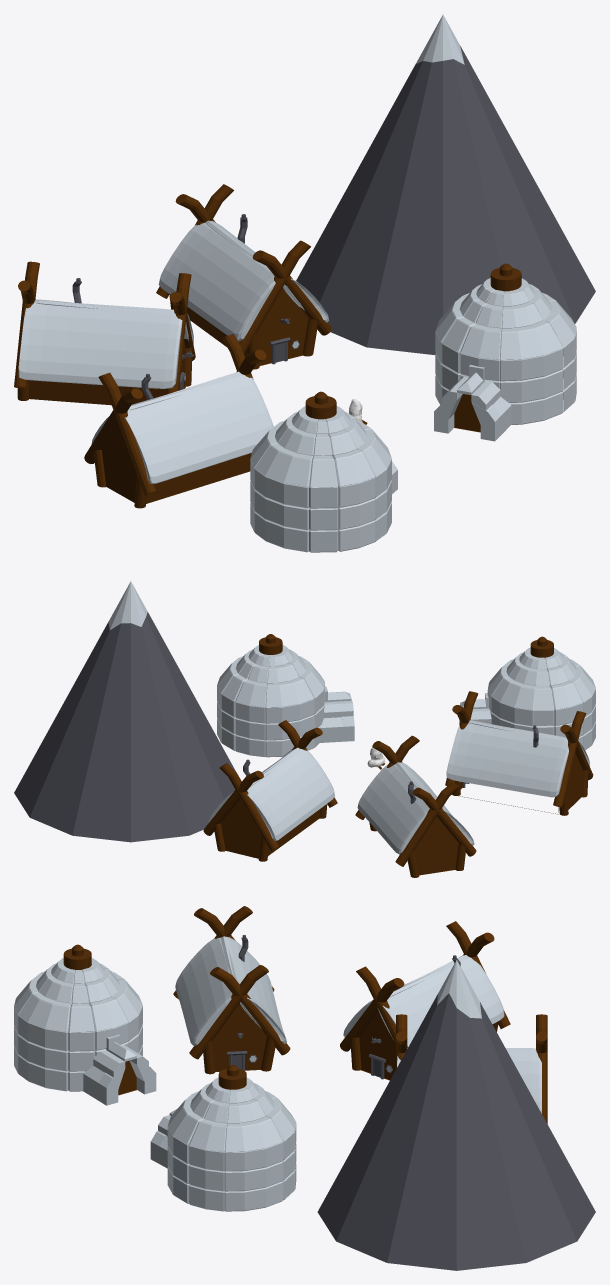
File: mountlvl3.fbx
3 renders of one model, top to bottom at view 1: azimuth 30°, elevation 25°; view 2: azimuth 150°, elevation 25°; view 3: azimuth 270°, elevation 25°, orthographic. The views are drawn at different scales.
Visible parts, largest first — view 1: Cone, Cylinder.023, Cylinder.001, Cube.005, Cube.002, Cube, Cube.025, Cylinder.007, Cylinder.005, Cylinder.006, Plane.005, Plane.003 (+7 smaller); view 2: Cone, Cylinder.001, Cylinder.023, Cube.002, Cube, Cube.005, Cylinder.017, Cylinder.009, Cylinder.019, Cylinder.010, Cube.025, Cylinder.005 (+7 smaller); view 3: Cone, Cylinder.001, Cylinder.023, Cube.002, Cube.005, Cylinder.004, Cube.006, Cylinder.008, Cylinder.016, Cylinder.018, Cone.001, Cube (+5 smaller).
Boxes of the visible parts, x1,y1,x2,y2 form: Cone: (296, 45, 595, 354); Cylinder.023: (250, 391, 391, 552); Cylinder.001: (435, 263, 576, 424); Cube.005: (18, 299, 193, 388); Cube.002: (91, 371, 273, 483); Cube: (158, 220, 329, 341); Cube.025: (434, 364, 511, 441); Cylinder.007: (238, 240, 331, 369); Cylinder.005: (84, 372, 156, 508); Cylinder.006: (257, 288, 308, 365); Plane.005: (29, 380, 166, 405); Plane.003: (146, 453, 251, 503); Cone: (14, 612, 235, 842); Cylinder.001: (217, 634, 324, 757); Cylinder.023: (487, 636, 595, 750); Cube.002: (446, 720, 589, 797); Cube: (208, 747, 334, 841); Cube.005: (357, 762, 474, 854); Cylinder.017: (395, 782, 476, 877); Cylinder.009: (203, 763, 278, 861); Cylinder.019: (414, 817, 458, 875); Cylinder.010: (221, 799, 261, 858); Cube.025: (320, 686, 354, 742); Cylinder.005: (553, 711, 593, 815); Cone: (317, 993, 595, 1270); Cylinder.001: (167, 1064, 296, 1211); Cylinder.023: (14, 944, 142, 1091); Cube.002: (175, 936, 286, 1046); Cube.005: (343, 955, 504, 1047); Cylinder.004: (189, 965, 290, 1074); Cube.006: (83, 1034, 156, 1105); Cylinder.008: (212, 1003, 266, 1071); Cylinder.016: (340, 966, 404, 1070); Cylinder.018: (359, 1011, 395, 1080); Cone.001: (437, 960, 481, 1018); Cube: (397, 1048, 541, 1113).
Bounding box in the file's own units: 5539 × 2491 × 5166.
